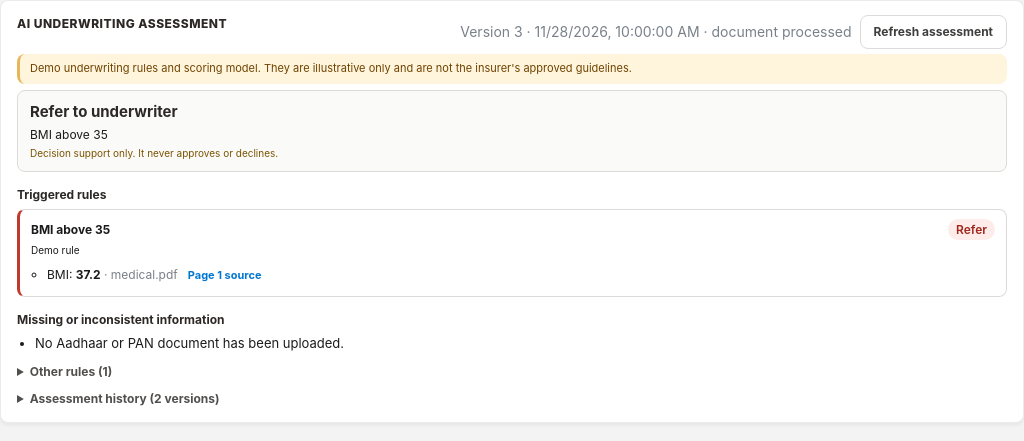
Test case: case assessment › loads the assessment and refreshes it on demand
Expected: the text "Version 3 · 11/28/2026, 10:00:00 AM · document processed" is shown, [460,22,852,42]
Click the button "Refresh assessment" at point(933, 32), box [860,15,1007,49]
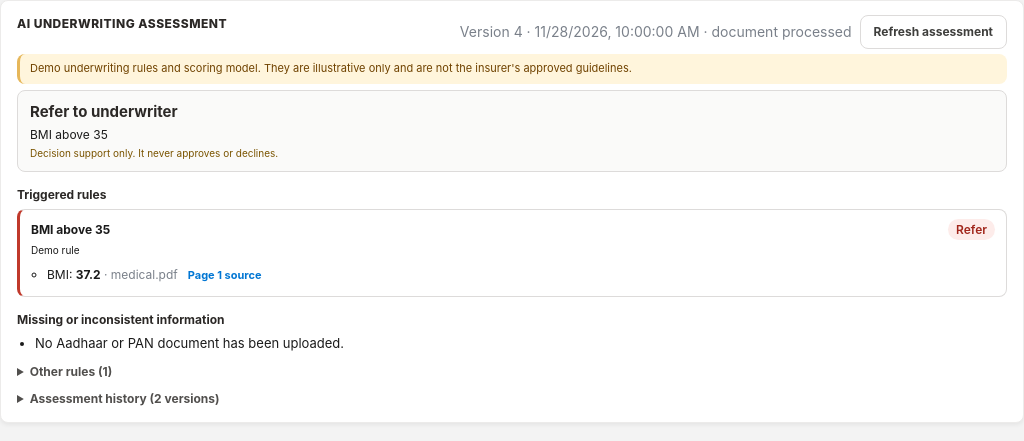
Expected: the text "Version 4 · 11/28/2026, 10:00:00 AM · document processed" is shown, [460,22,852,42]
